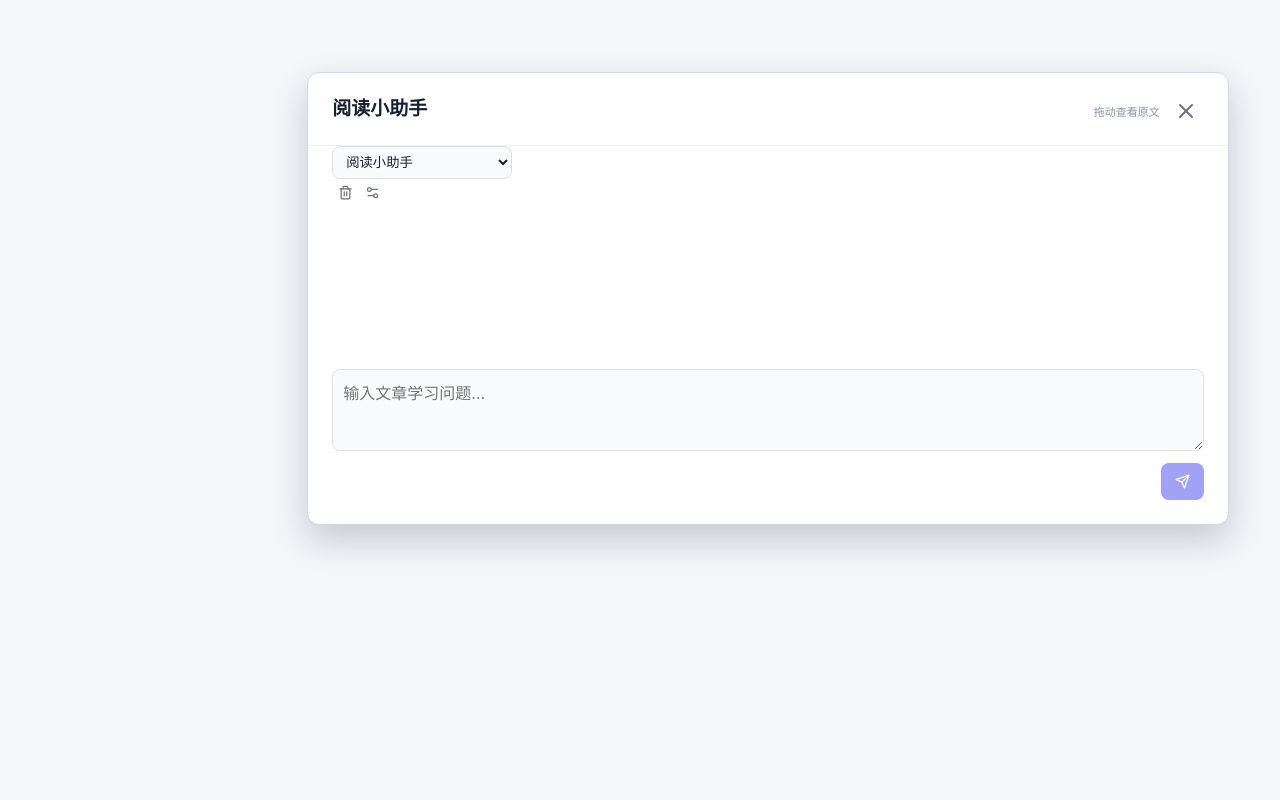
Test: ReadingAssistantModal › 设置页支持自定义人设和多助手切换
Click the button named "助手设置" at x=373, y=192, box [359,179,386,206]
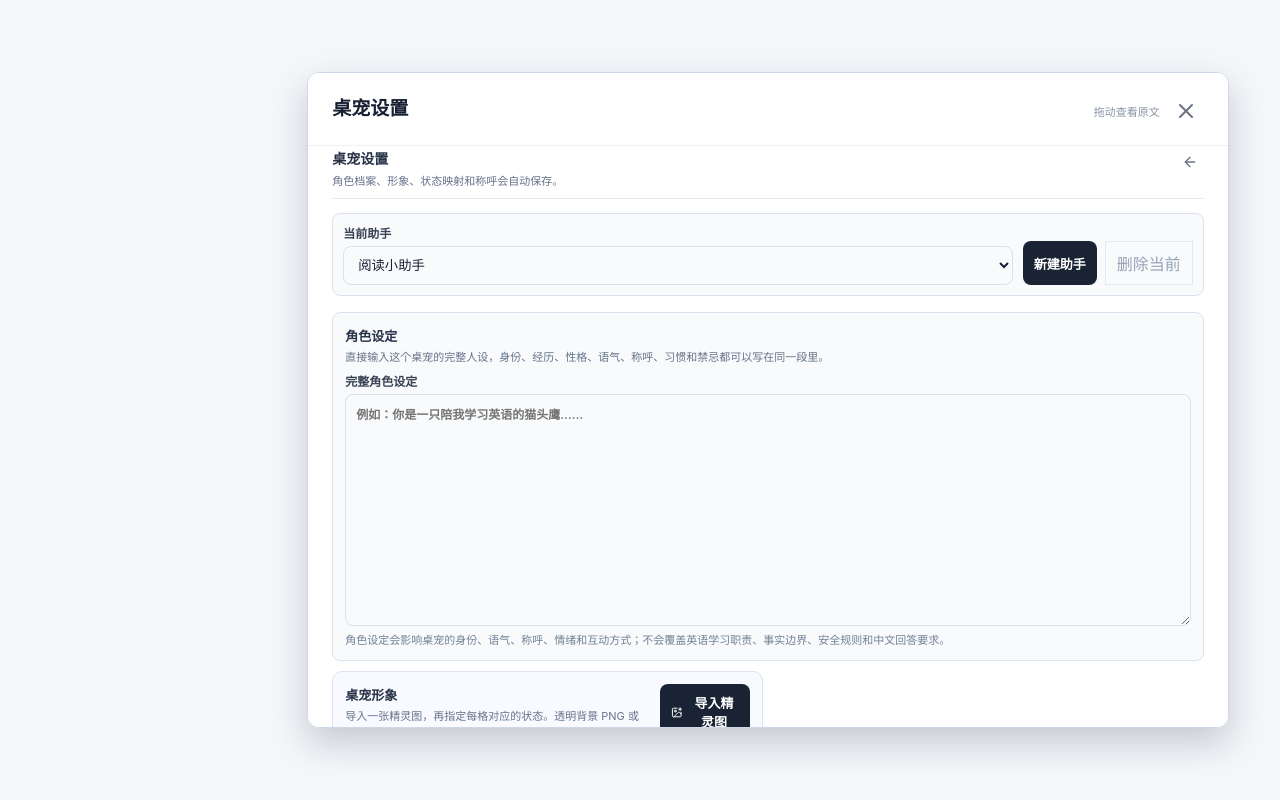
Now the text "桌宠形象" is shown, box [345,687,397,703]
Now the text box labelled "完整角色设定" is empty
Type "请用简洁的语气回答。" into the text box labelled "完整角色设定" at x=768, y=510, box [345,394,1191,626]
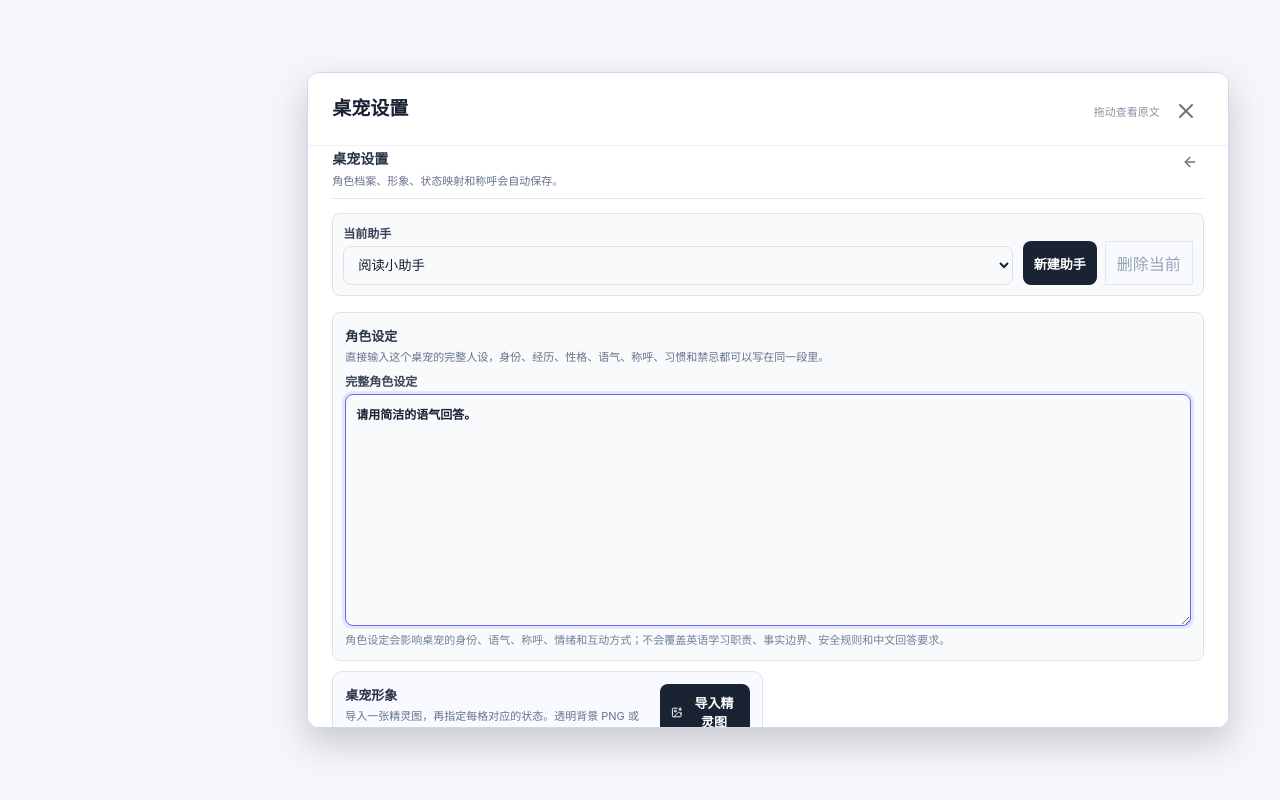
Click the button "新建助手" at x=1060, y=263, box [1023,241,1097,285]
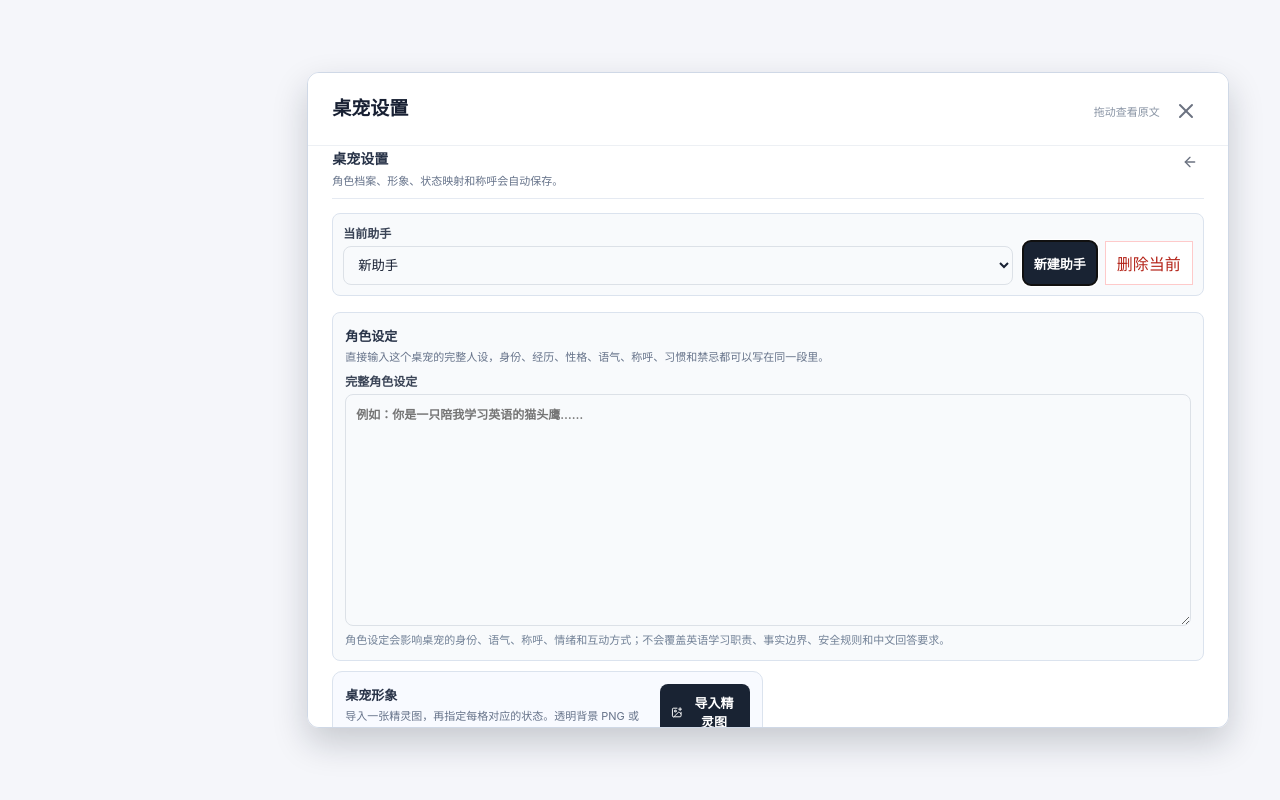
Expected: the text box with placeholder "输入文章学习问题…" is not shown
Now the button "导入精灵图" is shown, box [660,684,750,728]
Click the button named "返回聊天" at x=1190, y=162, box [1176,148,1204,176]
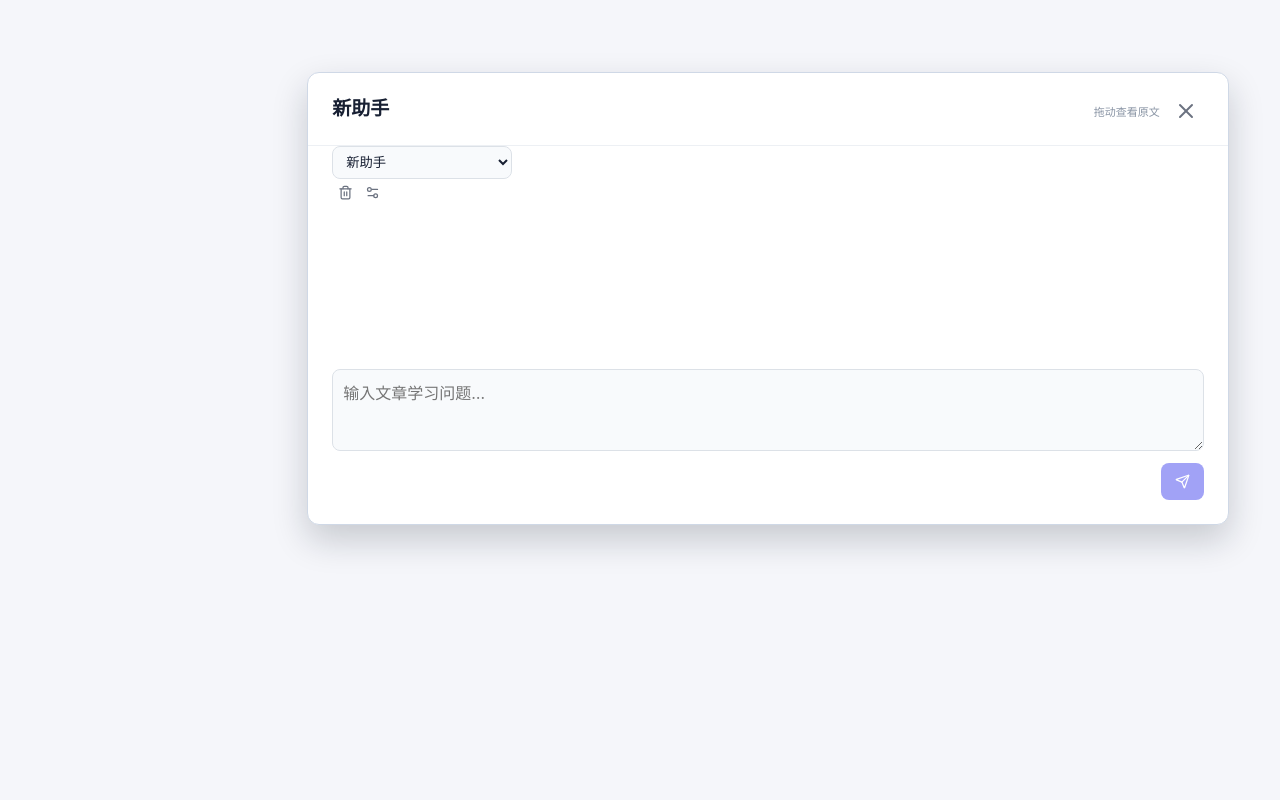
Now the text box with placeholder "输入文章学习问题…" is shown, box [332,369,1204,451]
Now the button named "发送" is shown, box [1161,463,1204,500]
